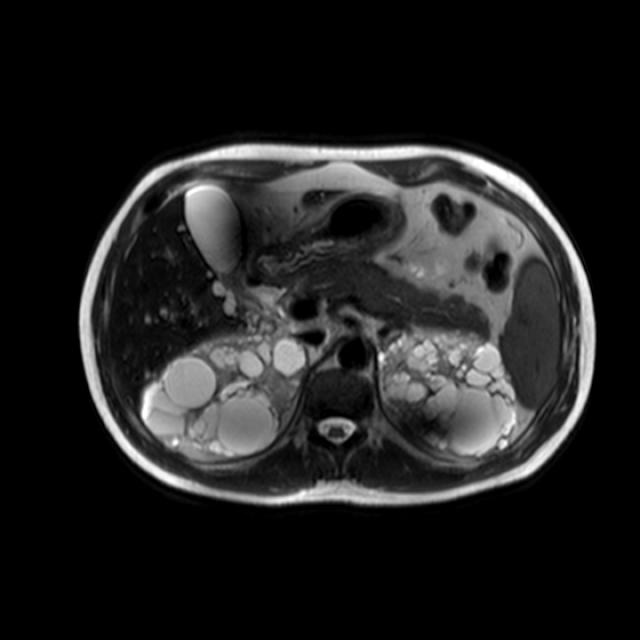sag: (140, 329, 309, 462)
sol: (377, 332, 523, 464)
